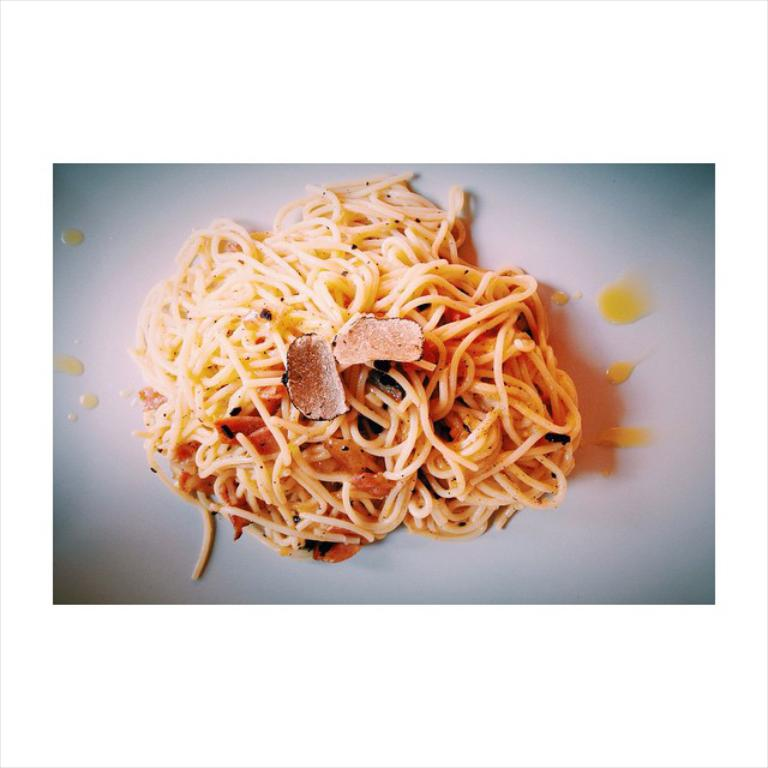pasta: (139, 186, 584, 580)
